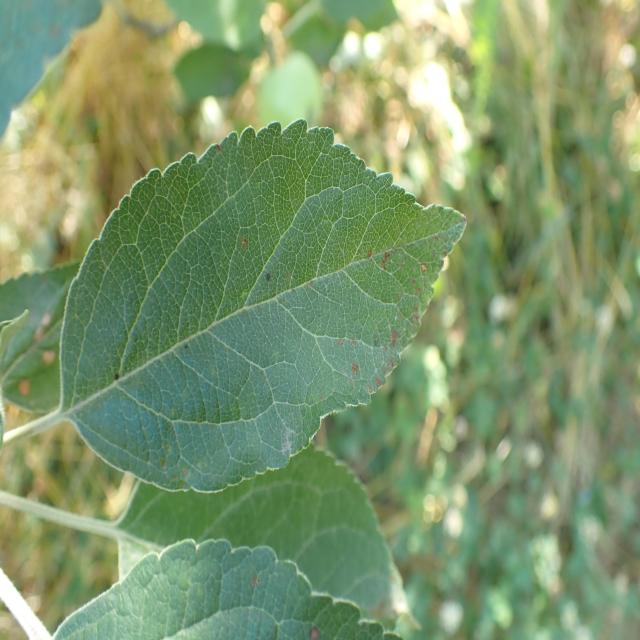scab: (274, 202, 478, 404)
